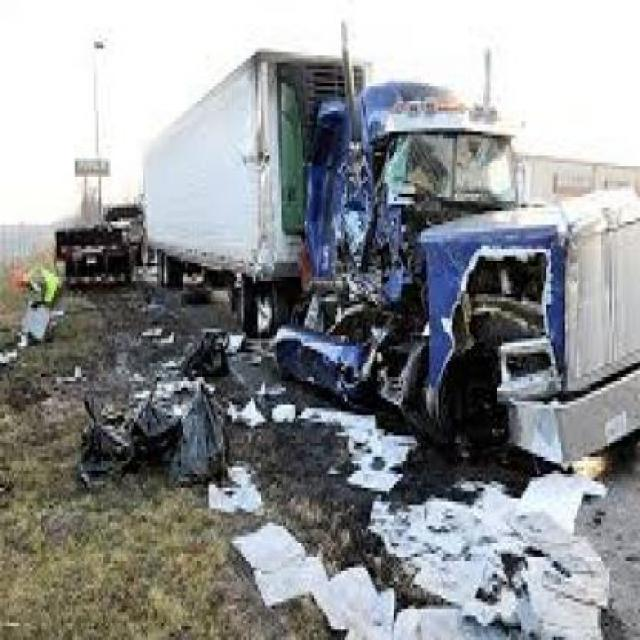accident: (264, 50, 640, 517)
